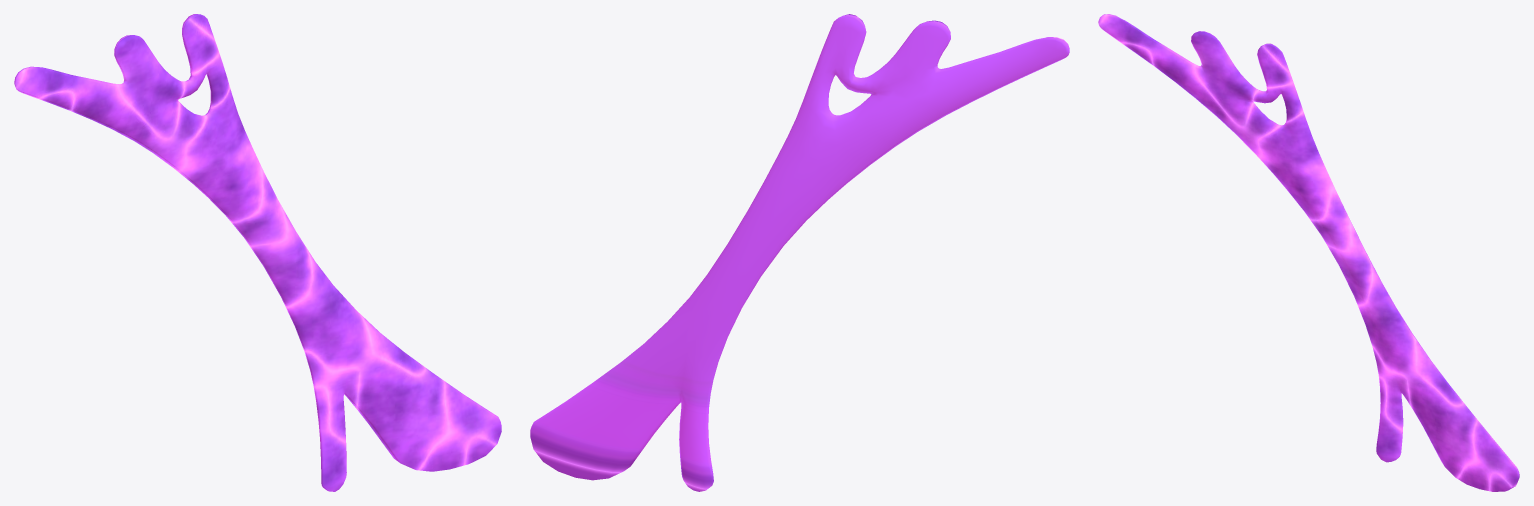
Rendered from caos_drs_chaosenergy_01c_v35.glb.
3 renders of one model, left to right at view 1: azimuth 30°, elevation 25°; view 2: azimuth 150°, elevation 25°; view 3: azimuth 330°, elevation 25°, orthographic. The views are drawn at different scales.
Parts seen in each view (by area): view 1: caos_drs_chaosenergy_01c; view 2: caos_drs_chaosenergy_01c; view 3: caos_drs_chaosenergy_01c.
Boxes of the visible parts, <box> form: caos_drs_chaosenergy_01c: <box>14,14,501,491</box>; caos_drs_chaosenergy_01c: <box>530,14,1069,491</box>; caos_drs_chaosenergy_01c: <box>1098,14,1519,491</box>.
Bounding box in the file's own units: 5.93 × 5.85 × 0.841.
1 material, 1 textured.
